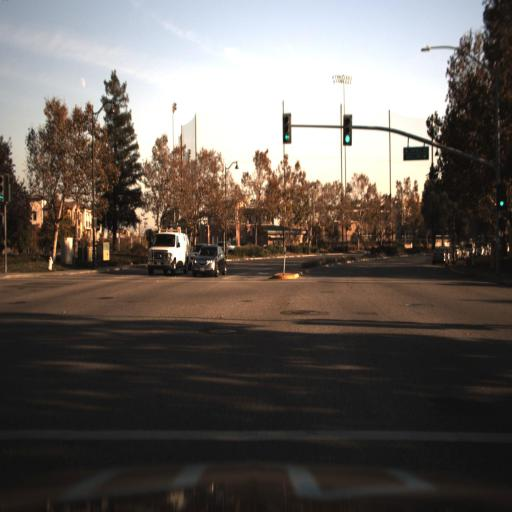car: (145, 228, 189, 274), (191, 241, 228, 277), (430, 244, 447, 270)
trafficLight: (494, 181, 510, 225), (339, 114, 357, 152), (279, 113, 292, 150)
